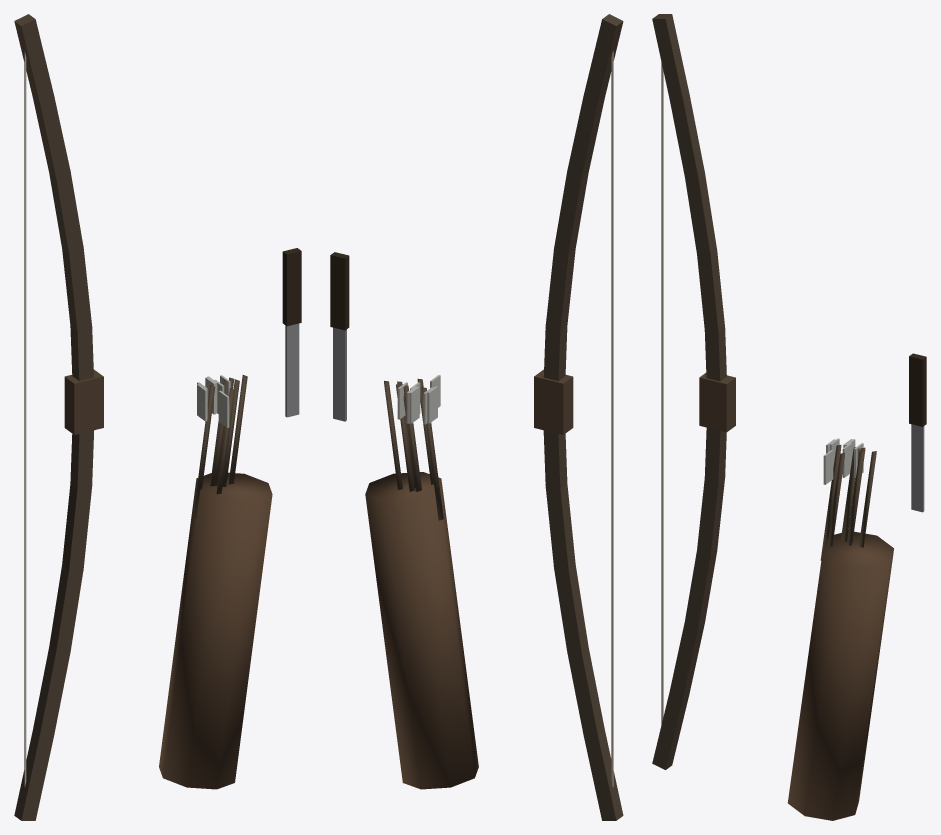
File: bow_quiver.glb
3 renders of one model, left to right at view 1: azimuth 30°, elevation 25°; view 2: azimuth 150°, elevation 25°; view 3: azimuth 330°, elevation 25°, orthographic. The views are drawn at different scales.
Parts seen in each view (by area): view 1: bow_quiver; view 2: bow_quiver; view 3: bow_quiver.
Boxes of the visible parts, x1=… form: bow_quiver: x1=14, y1=14, x2=301, y2=820; bow_quiver: x1=330, y1=14, x2=623, y2=820; bow_quiver: x1=652, y1=14, x2=926, y2=820.
Bounding box in the file's own units: 0.5802 × 1.57 × 0.14.
